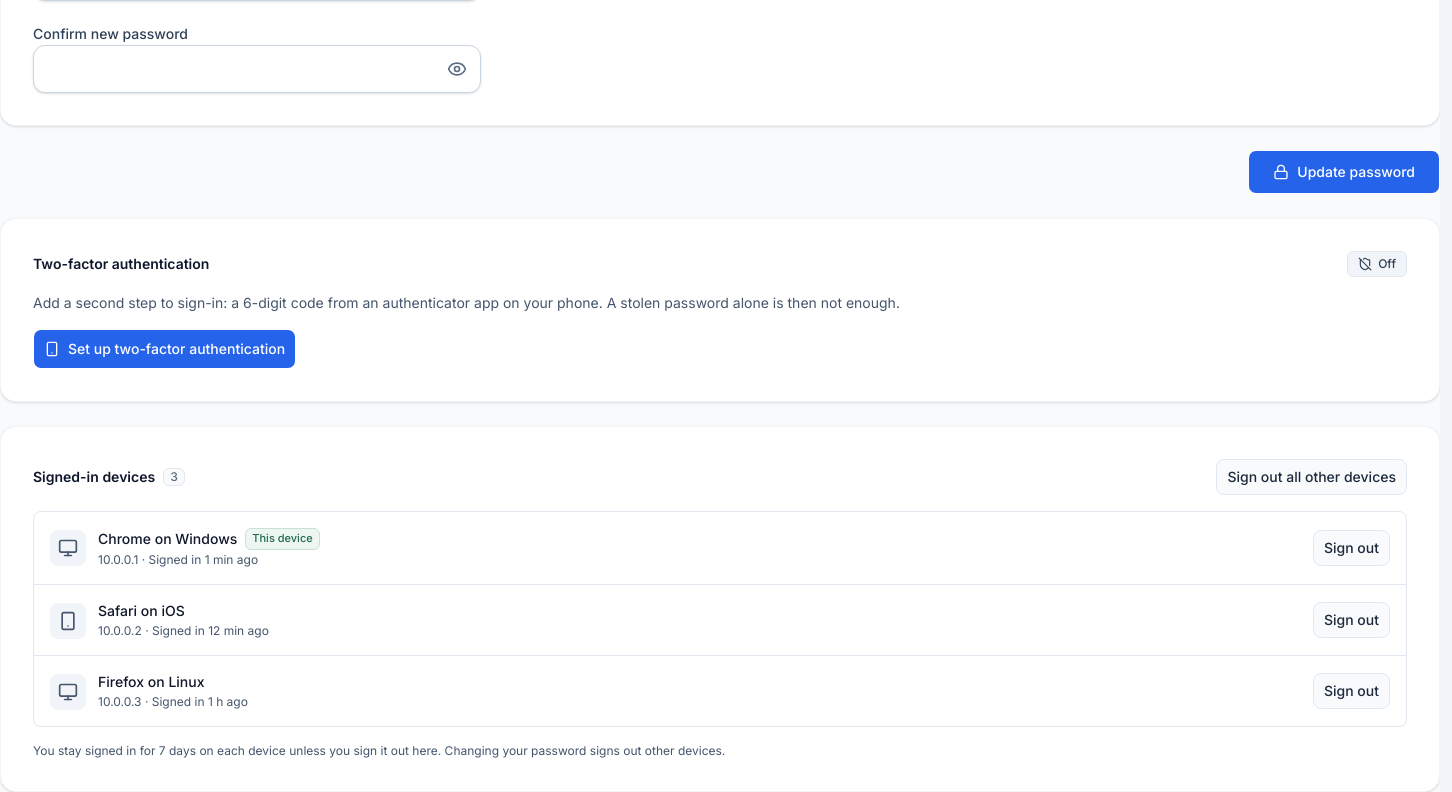
Test: SecurityPage signed-in devices › signs out another device without confirmation and removes its row
(page scrolled)
Click the button with aria-label "Sign out Safari on iOS". click: (1352, 620)
box: [1313,602,1390,638]
(page scrolled)
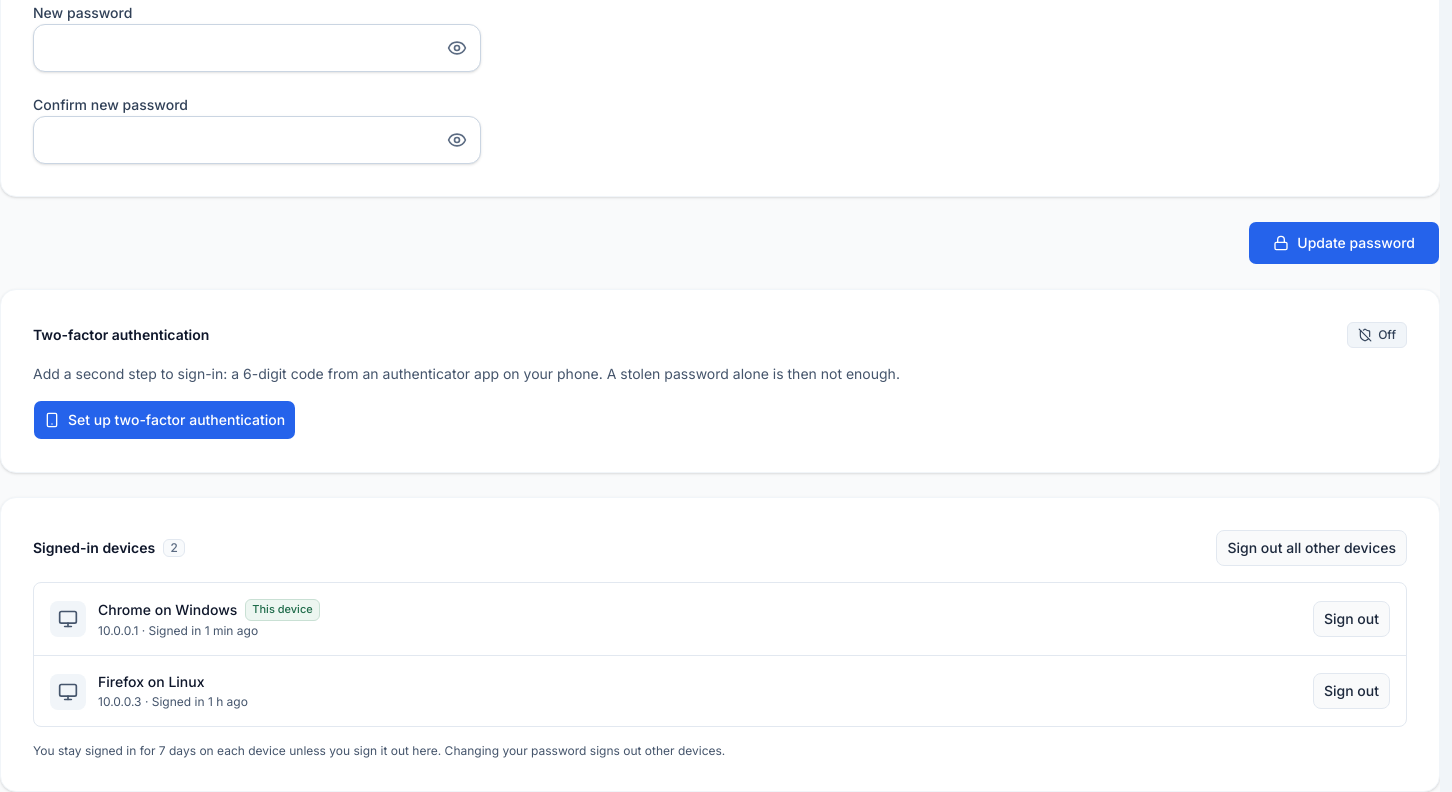
Check: the text "Safari on iOS" is gone
Check: the number of list items is 2, box [34,583,1406,656]; [50,673,1390,710]
